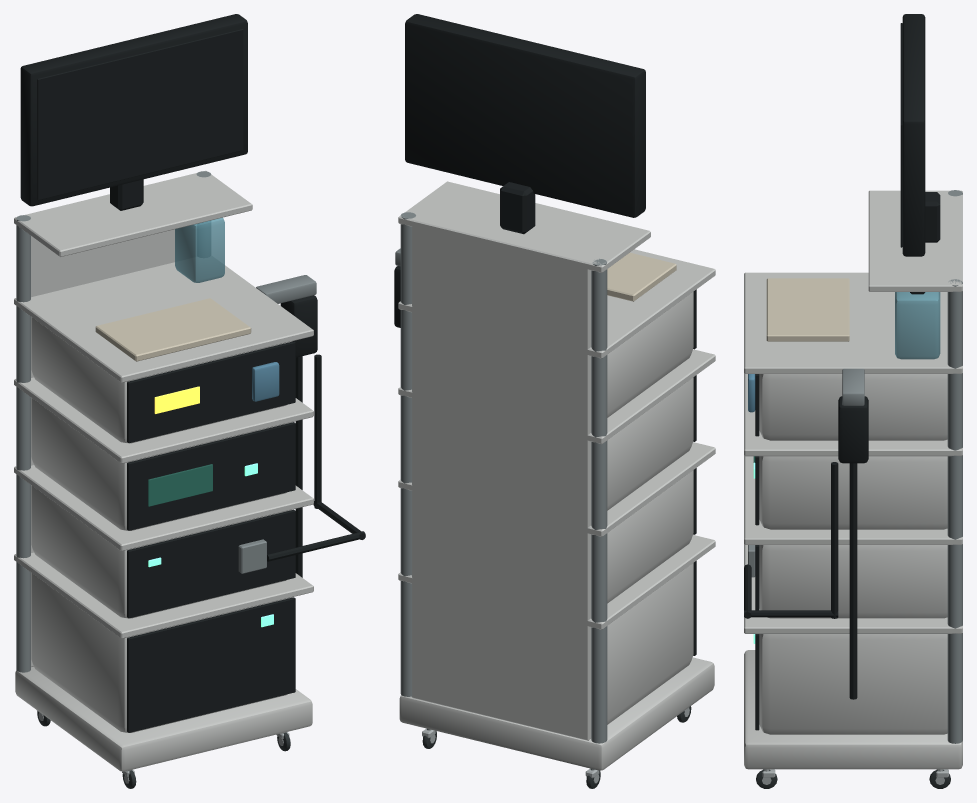
Rendered from endoscopy-tower.glb.
3 views of the same model, side by side, from view 1: azimuth 30°, elevation 25°; view 2: azimuth 150°, elevation 25°; view 3: azimuth 270°, elevation 25° (orthographic). The views are drawn at different scales.
Visible parts, largest first — view 1: endoscopy-tower; view 2: endoscopy-tower; view 3: endoscopy-tower.
Boxes of the visible parts, x1=… form: endoscopy-tower: x1=14, y1=14, x2=365, y2=788; endoscopy-tower: x1=394, y1=14, x2=715, y2=788; endoscopy-tower: x1=744, y1=14, x2=962, y2=788.
Bounding box in the file's own units: 0.8 × 2 × 0.58.
